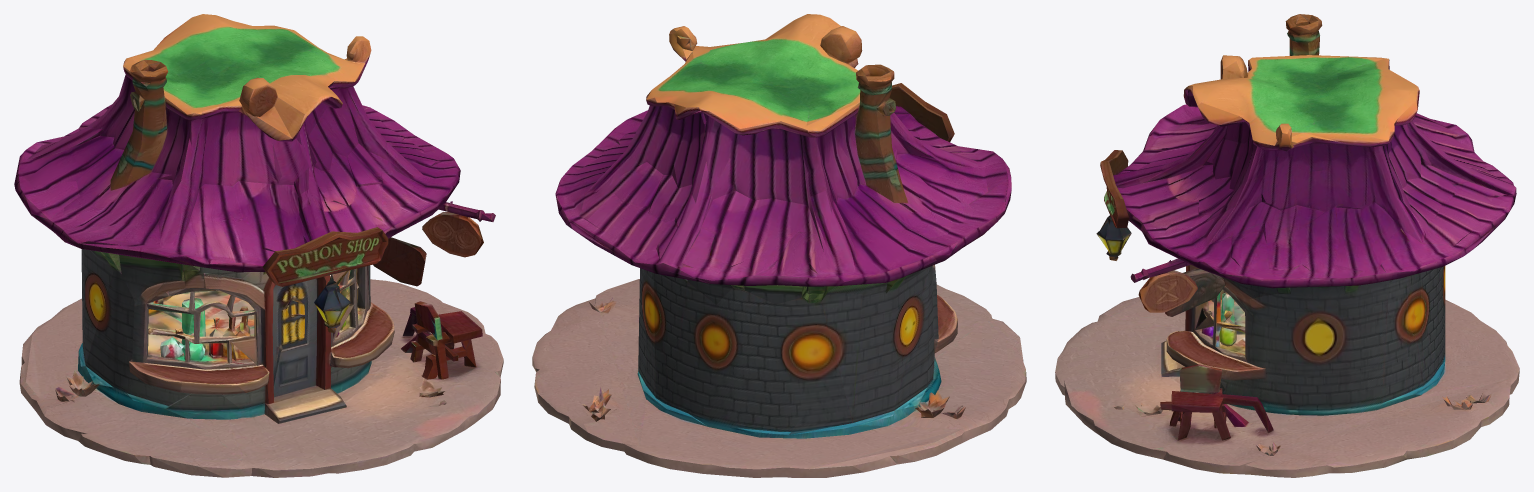
File: shop2.glb
3 renders of one model, left to right at view 1: azimuth 30°, elevation 25°; view 2: azimuth 150°, elevation 25°; view 3: azimuth 270°, elevation 25°, orthographic. The views are drawn at different scales.
Size of the model in its own units: 1.89 by 1.41 by 1.89.
Materials: 1 (1 with a texture image).
